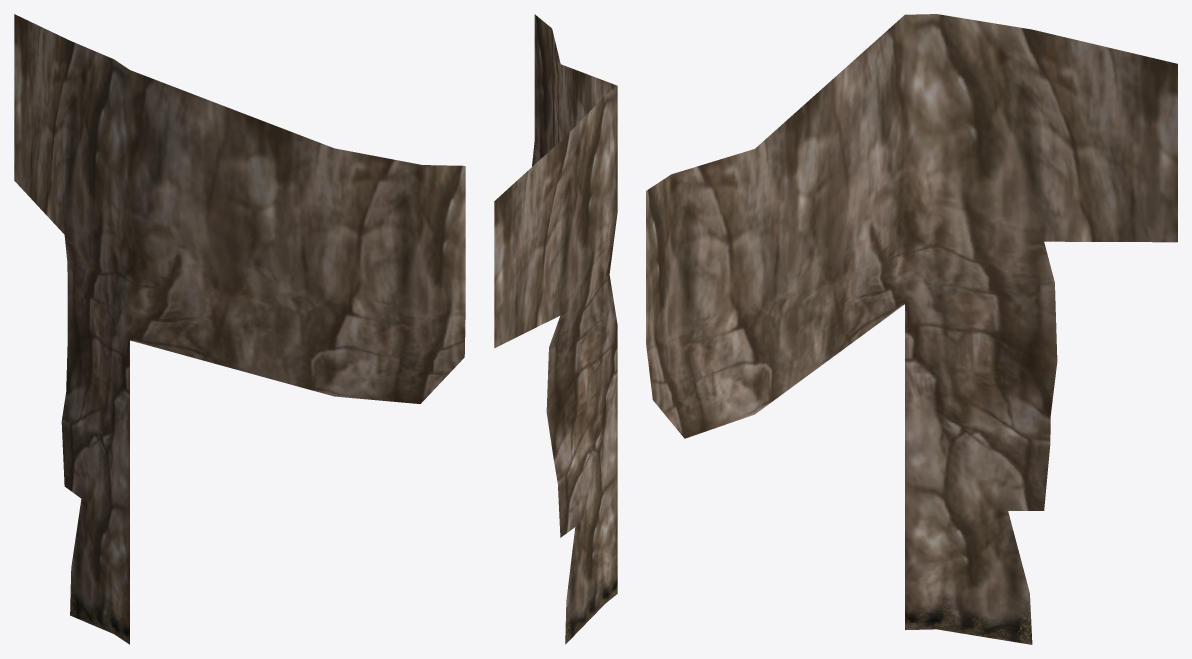
Rendered from OVERHILL_A_01_OBJECT20.fbx.
3 renders of one model, left to right at view 1: azimuth 30°, elevation 25°; view 2: azimuth 150°, elevation 25°; view 3: azimuth 270°, elevation 25°, orthographic. The views are drawn at different scales.
Parts seen in each view (by area): view 1: OVERHILL_A_01_OBJECT20; view 2: OVERHILL_A_01_OBJECT20; view 3: OVERHILL_A_01_OBJECT20.
Part boxes in pixels (bbox=[...]): OVERHILL_A_01_OBJECT20: bbox=[14, 14, 465, 644]; OVERHILL_A_01_OBJECT20: bbox=[494, 14, 617, 644]; OVERHILL_A_01_OBJECT20: bbox=[646, 14, 1177, 644].
Bounding box in the file's own units: 39564 × 102113 × 78037.
2 materials, 2 textured.
